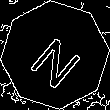N_NE: (24, 23, 86, 87)
